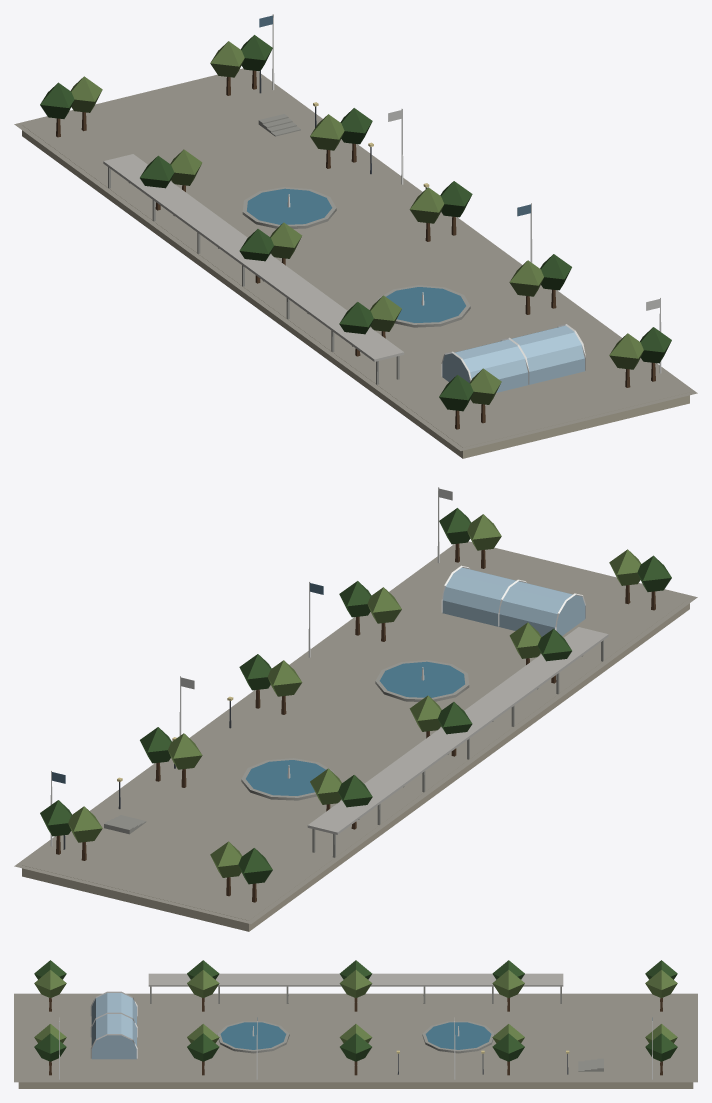
The model's file is mobile.glb.
The picture shows the model from 3 angles, top to bottom: view 1: azimuth 30°, elevation 25°; view 2: azimuth 150°, elevation 25°; view 3: azimuth 270°, elevation 25°; orthographic projection. The views are drawn at different scales.
Parts seen in each view (by area): view 1: lm.un-plaza; view 2: lm.un-plaza; view 3: lm.un-plaza.
Boxes of the visible parts, box(x1,y1,x2,y2) form: lm.un-plaza: box(14, 14, 697, 458); lm.un-plaza: box(14, 487, 697, 931); lm.un-plaza: box(14, 960, 697, 1088).
Bounding box in the file's own units: 46 × 16.08 × 150.
